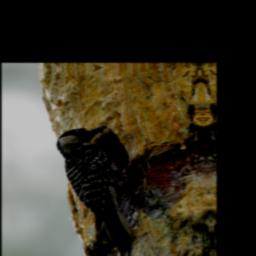Woodpecker: (54, 123, 152, 256)
